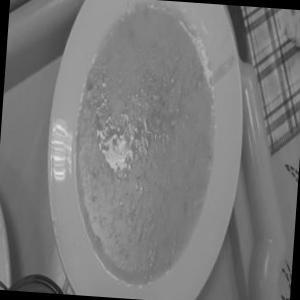porridge: (50, 0, 245, 294)
